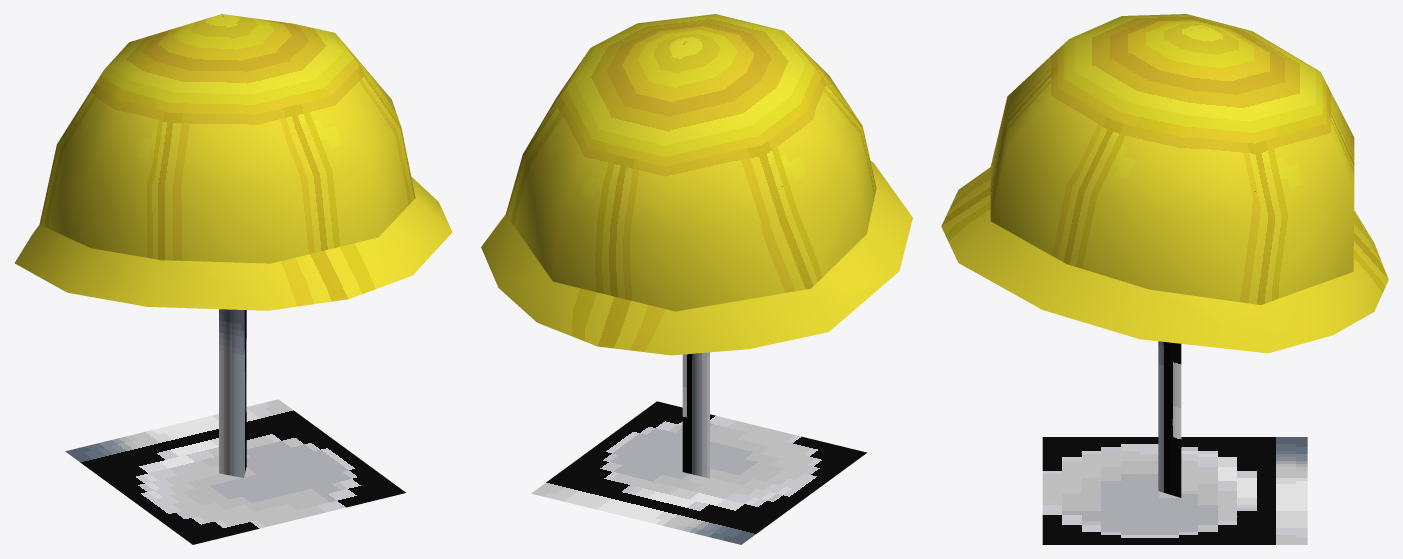
3 renders of one model, left to right at view 1: azimuth 30°, elevation 25°; view 2: azimuth 150°, elevation 25°; view 3: azimuth 270°, elevation 25°, orthographic. The views are drawn at different scales.
Parts seen in each view (by area): view 1: 2878head013_c; view 2: 2878head013_c; view 3: 2878head013_c.
Boxes of the visible parts, x1,y1,x2,y2 form: 2878head013_c: [15, 14, 452, 544]; 2878head013_c: [481, 14, 912, 544]; 2878head013_c: [941, 14, 1388, 544].
Bounding box in the file's own units: 0.8052 × 0.9355 × 0.811.
Materials: 2 (2 with a texture image).
